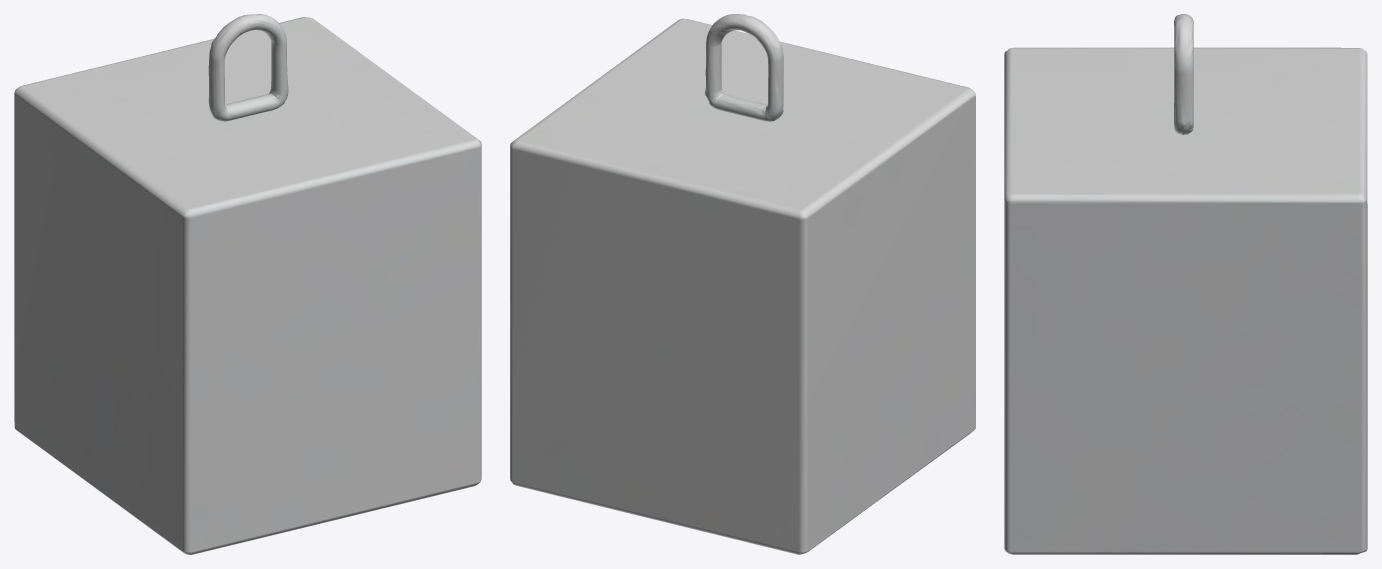
The model's file is metal-cube.glb.
The picture shows the model from 3 angles, left to right: view 1: azimuth 30°, elevation 25°; view 2: azimuth 150°, elevation 25°; view 3: azimuth 270°, elevation 25°; orthographic projection. The views are drawn at different scales.
Size of the model in its own units: 0.6704 by 0.9502 by 0.6768.
1 material, 1 textured.
